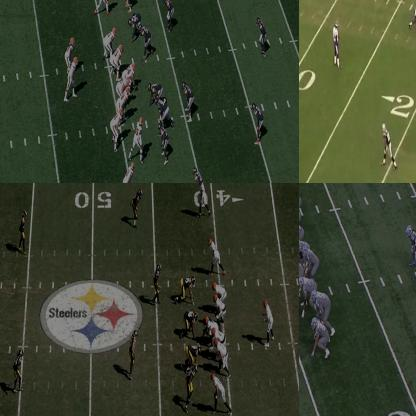CENTER: (124, 60, 138, 83), (203, 315, 215, 341)
DB: (187, 363, 199, 410), (259, 17, 270, 55), (254, 103, 264, 144), (332, 25, 340, 66), (134, 188, 143, 223), (14, 352, 22, 391), (20, 210, 26, 252), (195, 166, 206, 182), (122, 0, 135, 10)
LB: (128, 328, 138, 376), (184, 82, 196, 118), (163, 0, 174, 30), (155, 262, 163, 302), (162, 124, 170, 162)
QB: (301, 242, 316, 274), (66, 57, 77, 99), (263, 300, 273, 344)
SKILL: (309, 318, 331, 356), (212, 370, 228, 407), (131, 119, 145, 159), (383, 124, 394, 167), (112, 112, 125, 148), (407, 223, 415, 277), (211, 239, 223, 273), (199, 183, 210, 212), (120, 162, 135, 182), (65, 36, 75, 65), (98, 0, 112, 14), (299, 186, 305, 207)
